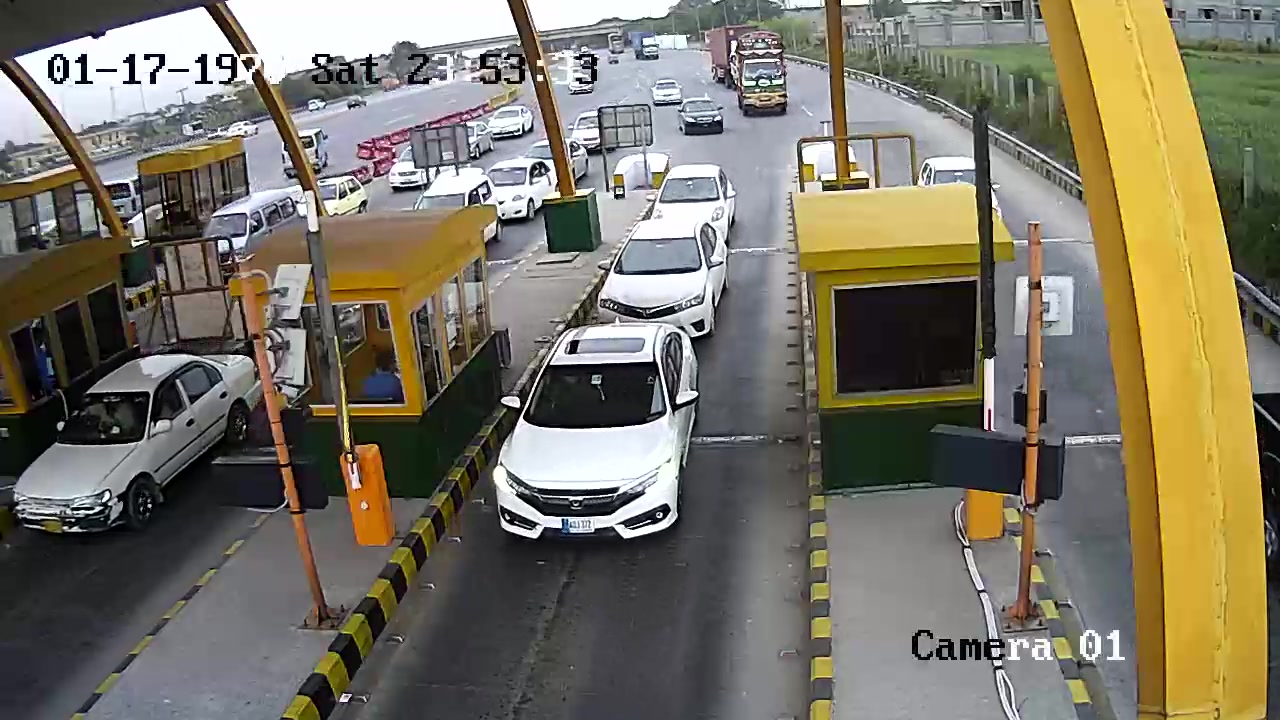F1: (495, 320, 721, 546)
